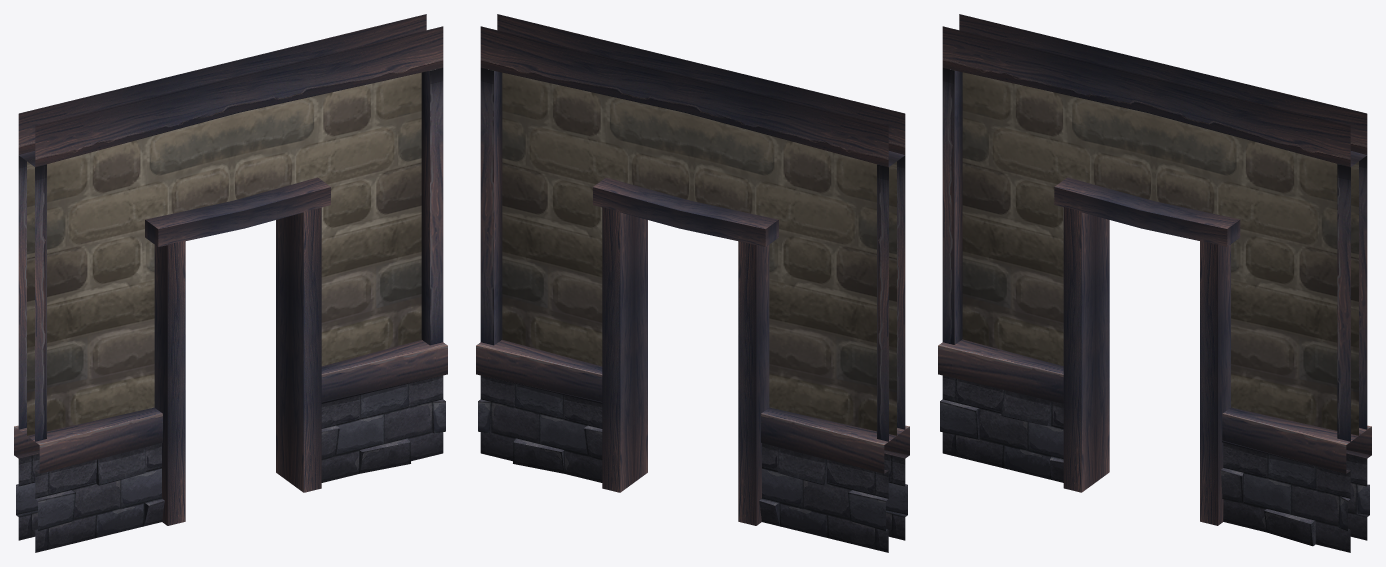
Rendered from WallDoor_2sided_detailed_Bricks.fbx.
3 views of the same model, side by side, from view 1: azimuth 30°, elevation 25°; view 2: azimuth 150°, elevation 25°; view 3: azimuth 330°, elevation 25° (orthographic).
Parts seen in each view (by area): view 1: WallDoor_2sided_detailed_Bricks; view 2: WallDoor_2sided_detailed_Bricks; view 3: WallDoor_2sided_detailed_Bricks.
Part boxes in pixels (box(x1,y1,x2,y2)): WallDoor_2sided_detailed_Bricks: box(14, 14, 447, 552); WallDoor_2sided_detailed_Bricks: box(476, 14, 909, 552); WallDoor_2sided_detailed_Bricks: box(938, 14, 1371, 552).
Size of the model in its own units: 0.6266 by 0.6266 by 0.0741.
